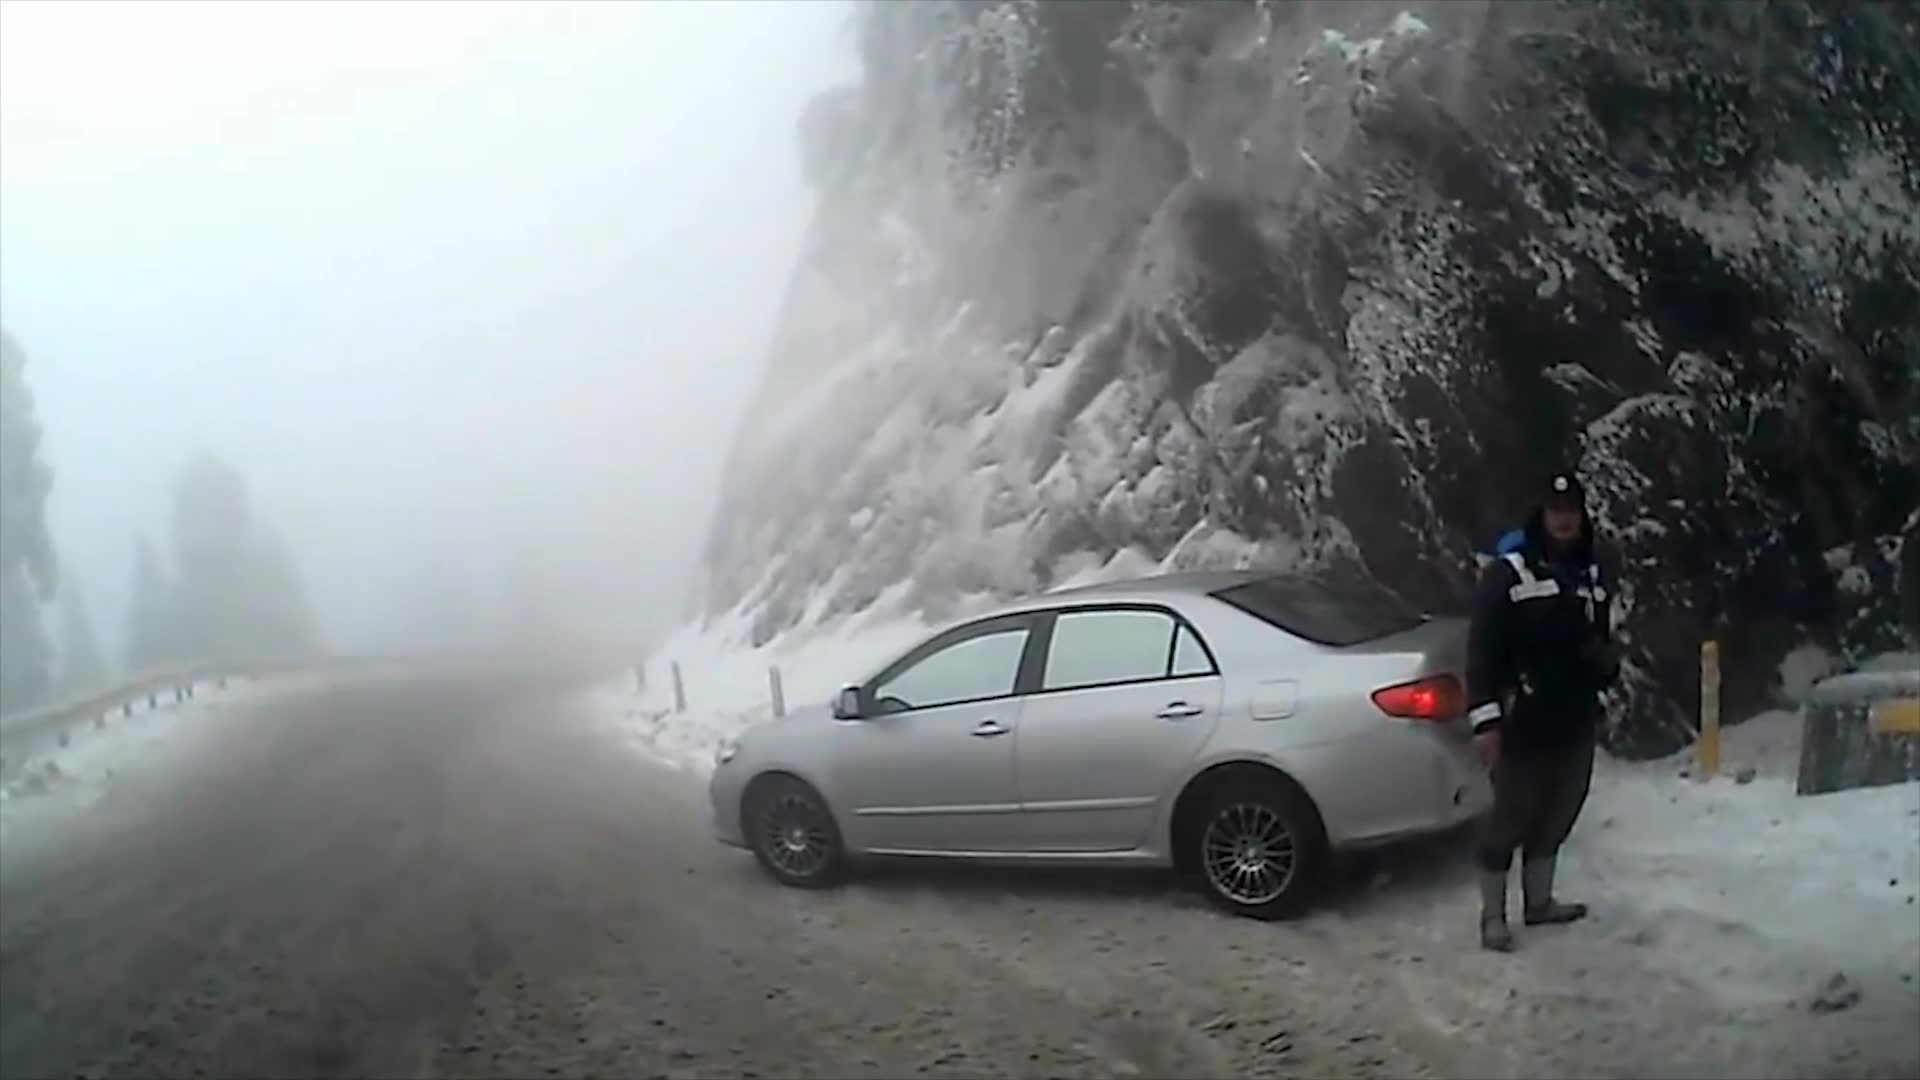pedestrian: (1458, 478, 1619, 959)
vehicle: (706, 570, 1563, 920)
